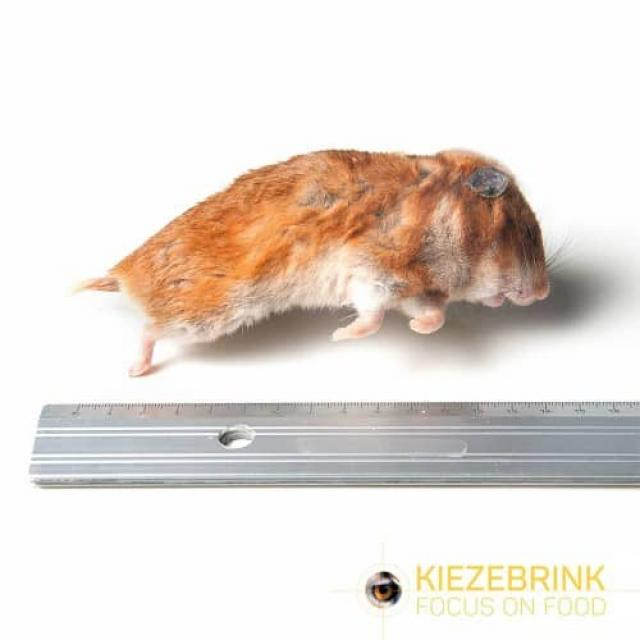hamster: (86, 144, 565, 379)
